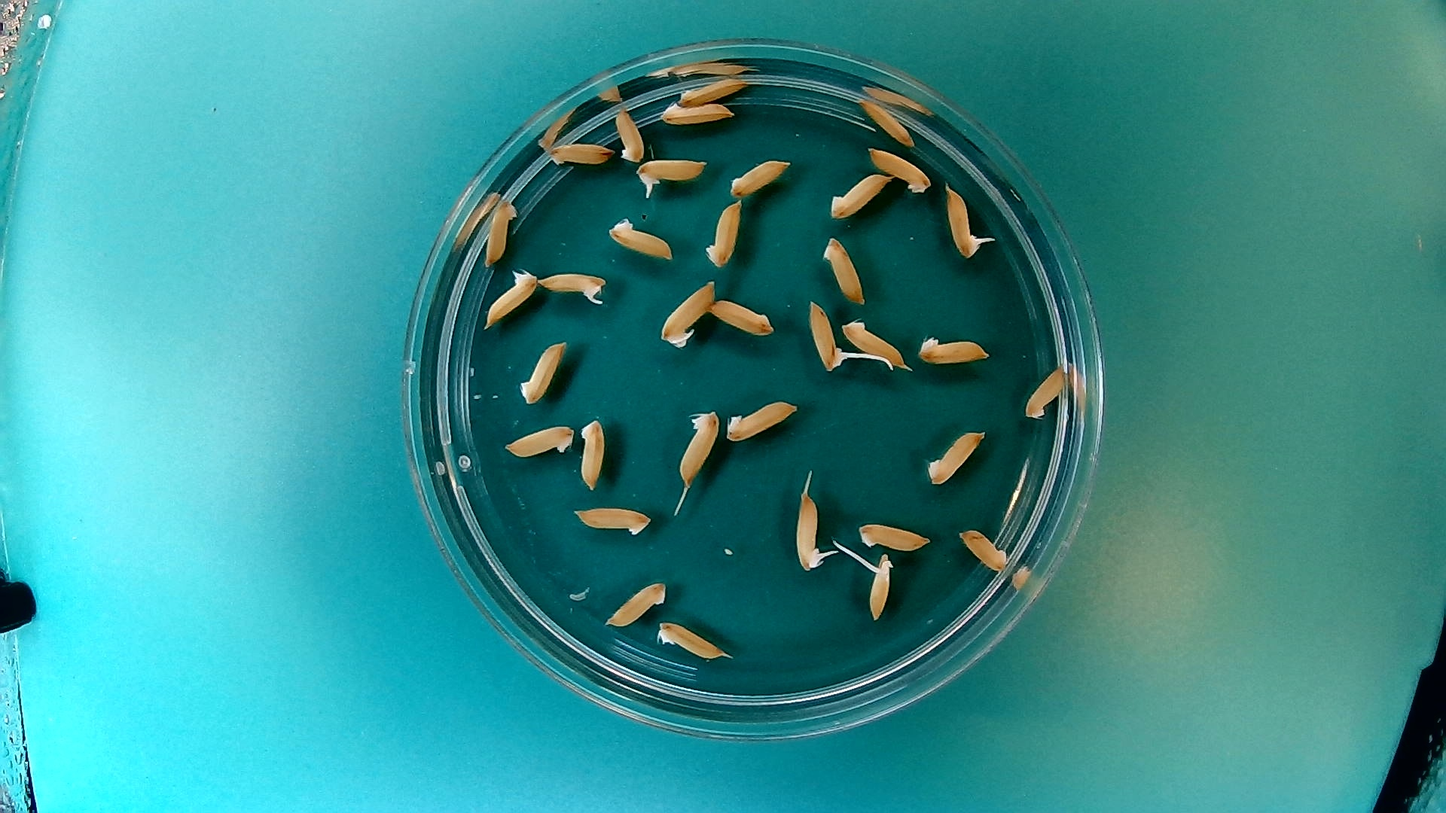no: (673, 403, 723, 489), (839, 313, 910, 370), (481, 263, 543, 328), (722, 394, 801, 444), (924, 425, 988, 486), (517, 334, 569, 409), (819, 232, 868, 306), (653, 618, 731, 662), (602, 578, 669, 629), (606, 215, 678, 262), (826, 170, 892, 221), (570, 501, 654, 541), (865, 144, 932, 194), (857, 94, 916, 149), (727, 154, 795, 199), (500, 421, 576, 461), (1020, 361, 1070, 421), (703, 195, 743, 270), (854, 516, 935, 553), (915, 330, 993, 367), (481, 196, 520, 268), (711, 296, 778, 337), (956, 526, 1011, 573), (578, 411, 609, 492), (675, 77, 752, 108), (544, 135, 615, 168), (659, 102, 741, 129), (612, 105, 645, 163)
yes: (792, 475, 838, 579), (657, 276, 720, 349), (633, 153, 712, 197), (944, 181, 986, 260), (805, 297, 848, 373), (538, 266, 610, 307), (861, 548, 893, 620)
